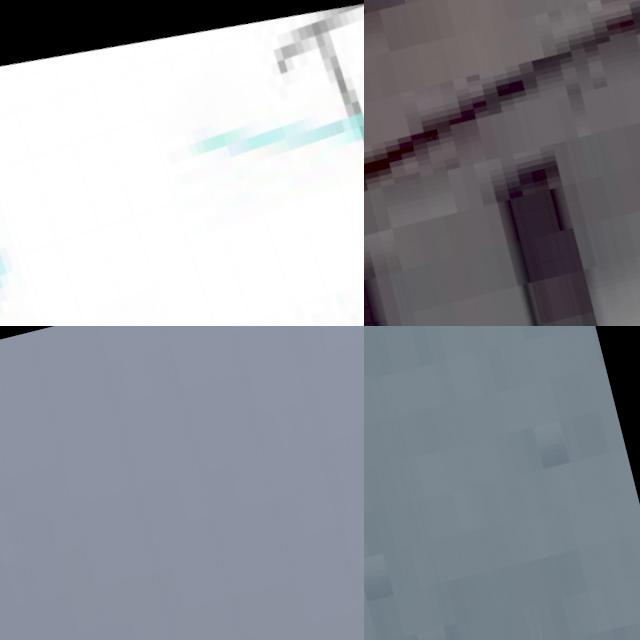drone: (0, 0, 364, 326)
